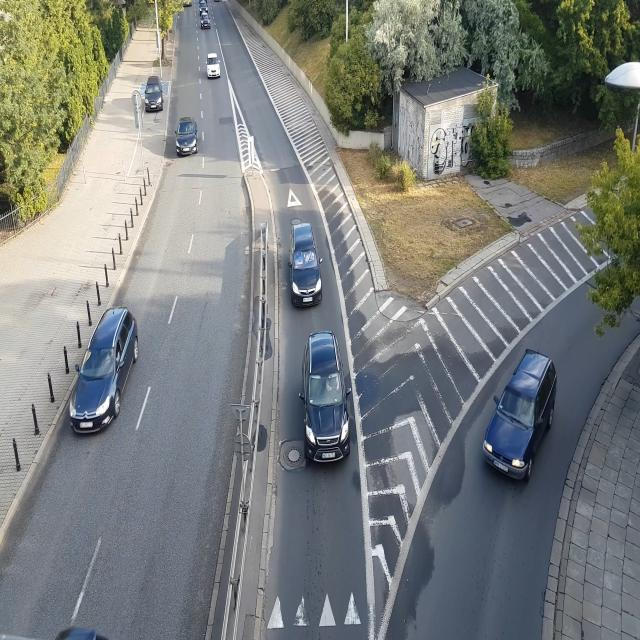car: (483, 336, 553, 488), (70, 299, 140, 434), (296, 326, 352, 466), (284, 220, 328, 310), (176, 113, 203, 160), (144, 73, 166, 118), (206, 43, 224, 84), (196, 12, 216, 32), (180, 0, 192, 12)
